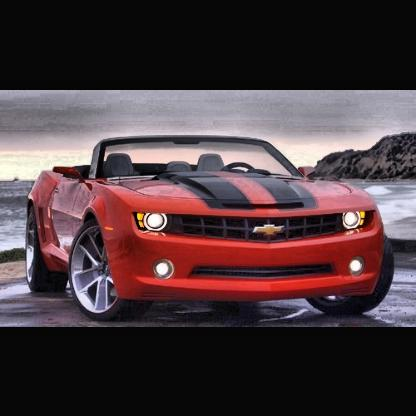Chevrolet Camaro Convertible 2012: (23, 134, 397, 327)
